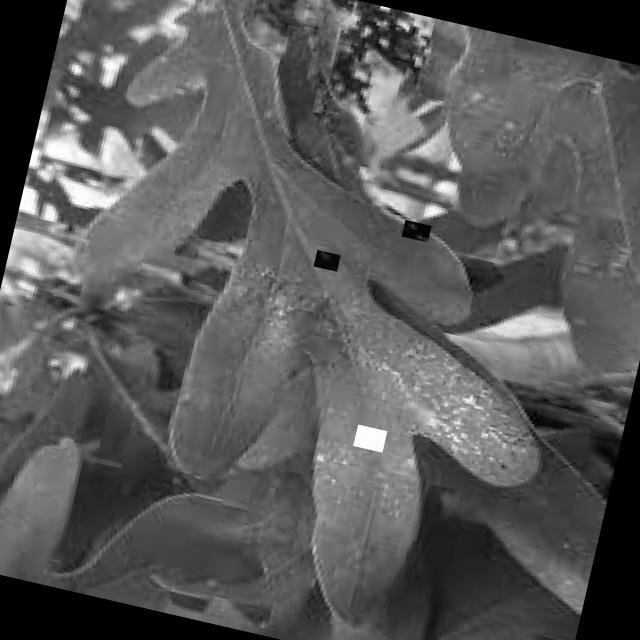aphid: (352, 424, 386, 452), (400, 219, 430, 242), (312, 249, 339, 271)
